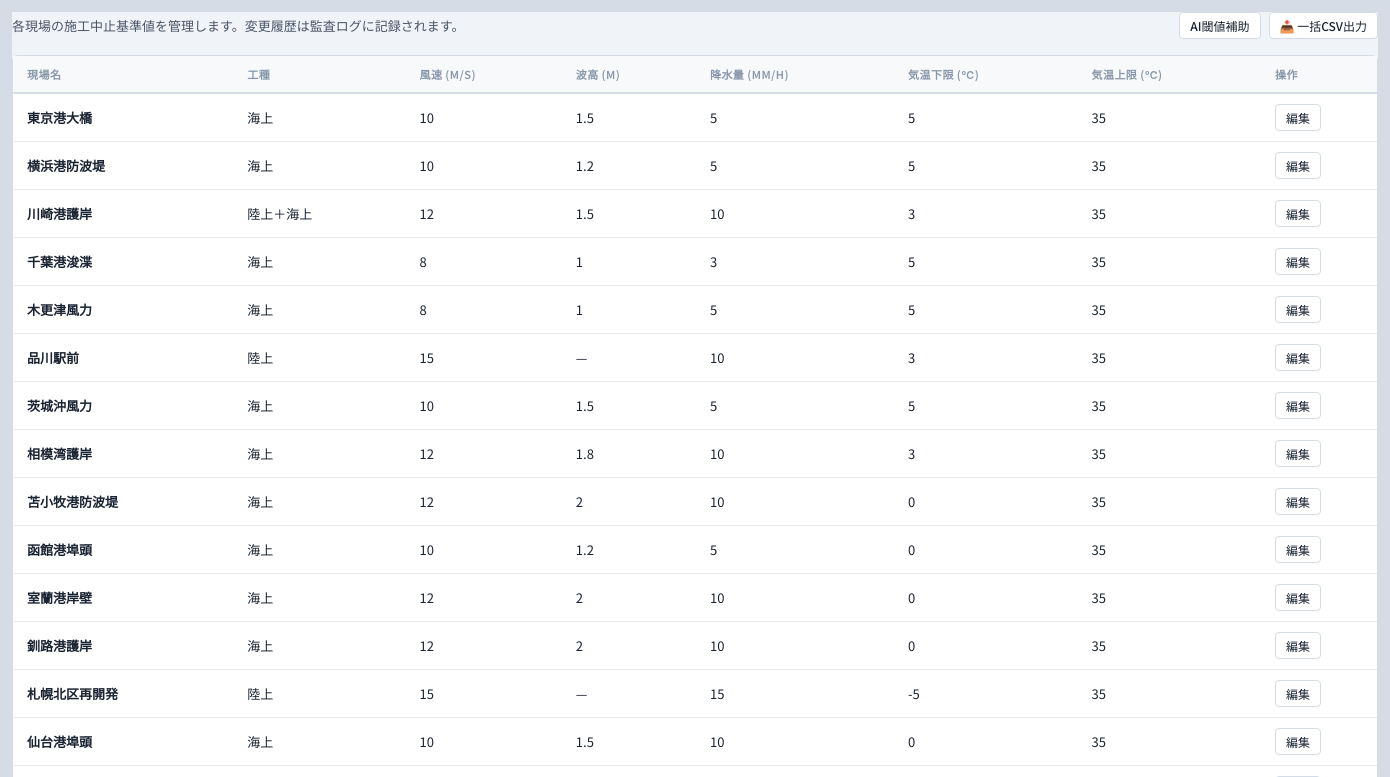
it: ThresholdsPage › clicking 保存 returns to display mode (no number inputs)
What coordinates should you click on to do the following:
click the button "編集" in the row of "東京港大橋"
I would click on:
 (1298, 118)
Its box is [1275,104,1321,131].
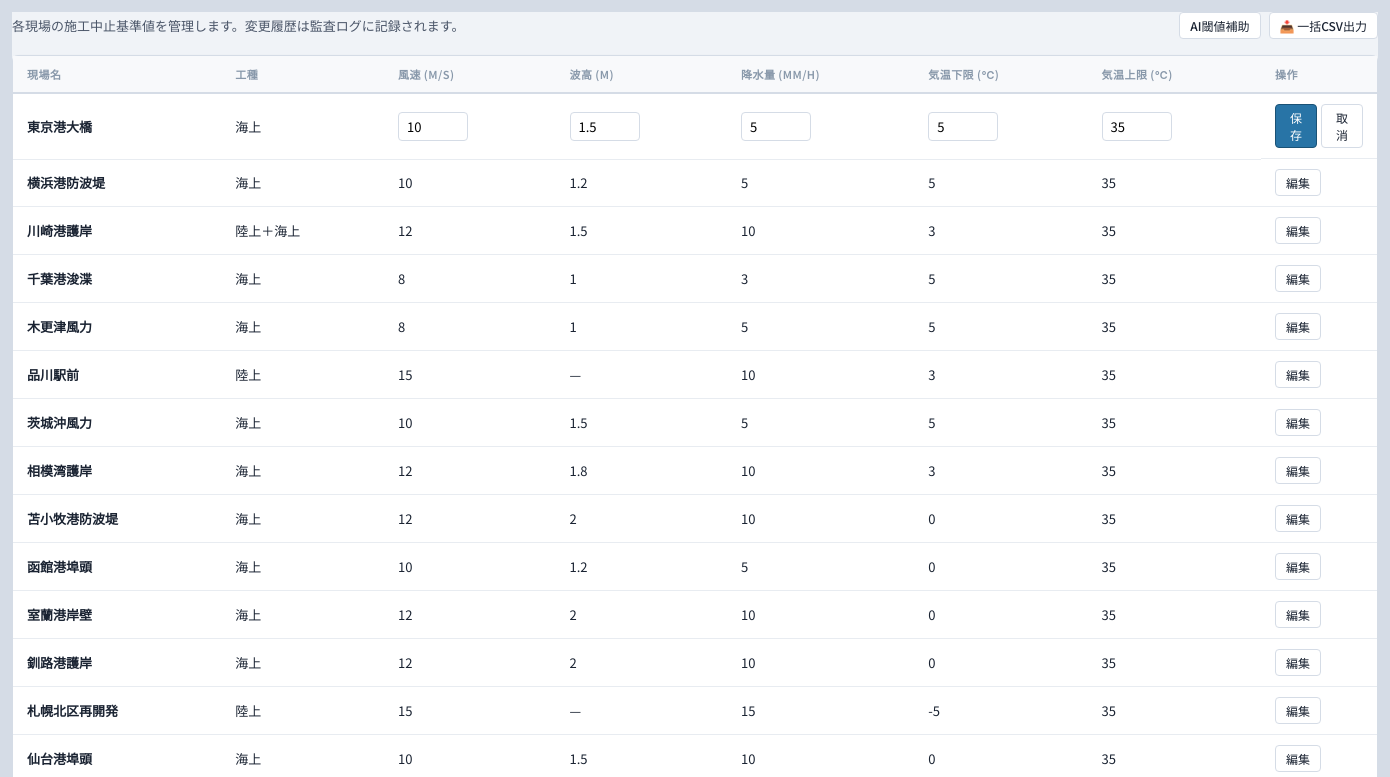
What coordinates should you click on to do the following:
click the button "保存"
I would click on:
 (1296, 126)
Its box is [1275,104,1317,148].
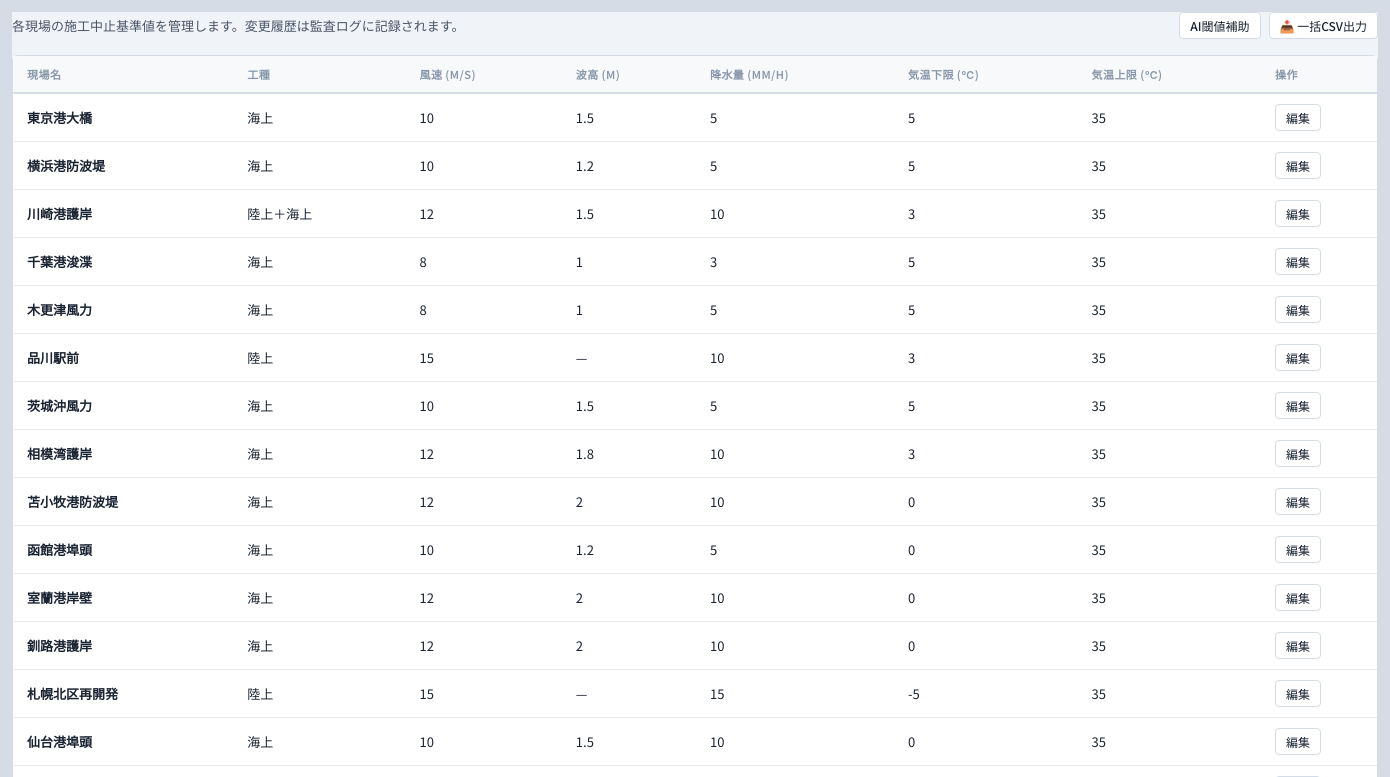
Now no number fields are shown
